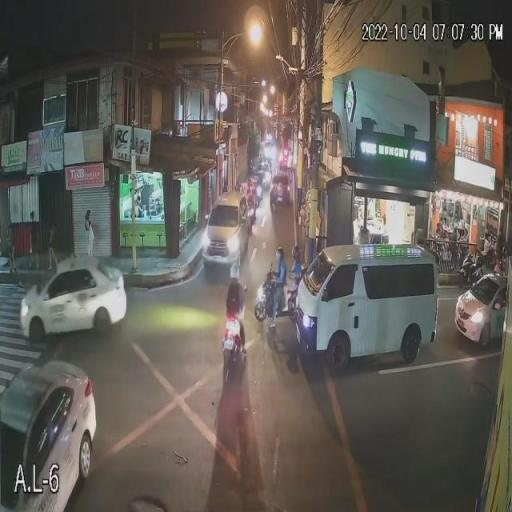helmet: (228, 264, 242, 282), (276, 248, 285, 266), (292, 247, 300, 260)
motorcycle: (252, 271, 297, 322), (219, 306, 248, 371)
rider: (227, 264, 242, 324), (273, 247, 285, 317), (289, 246, 301, 289)
